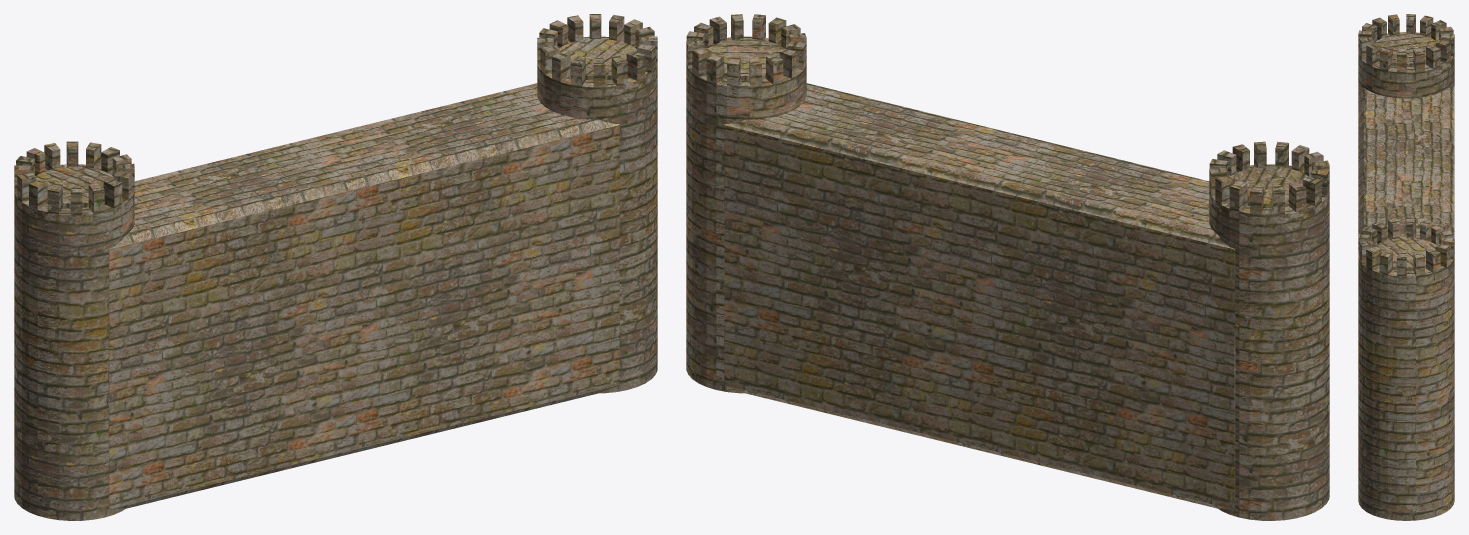
The model's file is castlewall.glb.
The picture shows the model from 3 angles, left to right: view 1: azimuth 30°, elevation 25°; view 2: azimuth 150°, elevation 25°; view 3: azimuth 270°, elevation 25°; orthographic projection. The views are drawn at different scales.
Visible parts, largest first — view 1: Cube; view 2: Cube; view 3: Cube.
Boxes of the visible parts, x1,y1,x2,y2 form: Cube: [14, 14, 657, 520]; Cube: [686, 14, 1329, 520]; Cube: [1358, 14, 1454, 520].
Size of the model in its own units: 12 by 6 by 2.
Materials: 1 (1 with a texture image).
